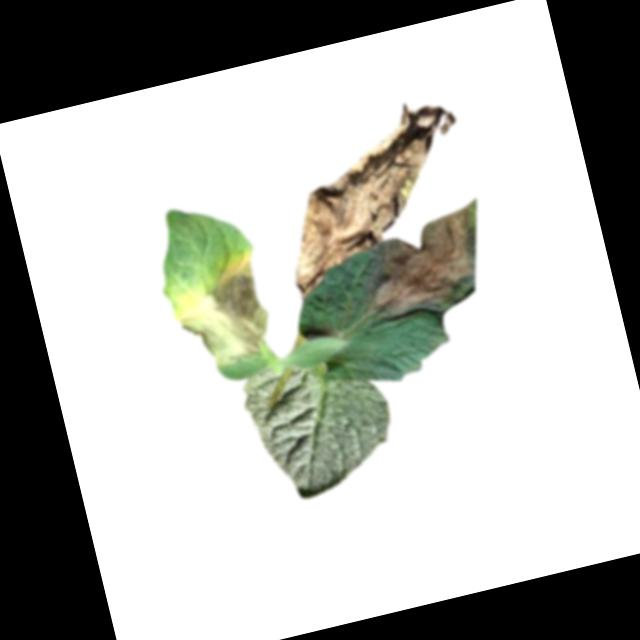Late_blight: (260, 92, 488, 299), (349, 203, 493, 327), (164, 257, 278, 375)
